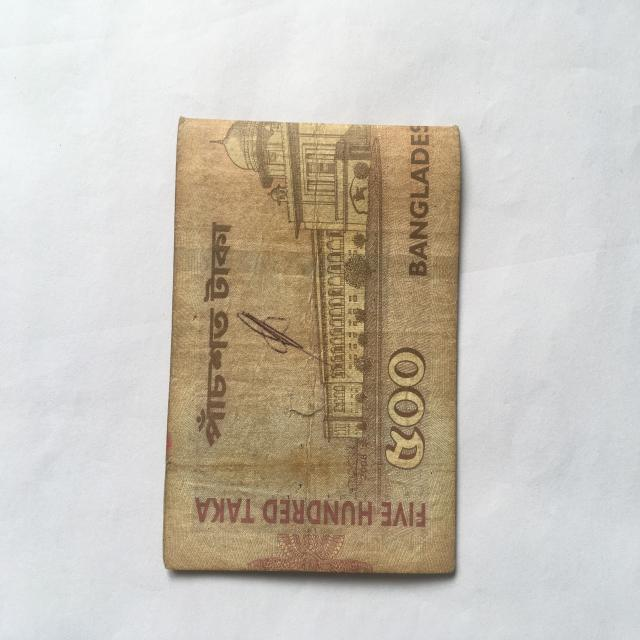Taka: (168, 101, 462, 584)
